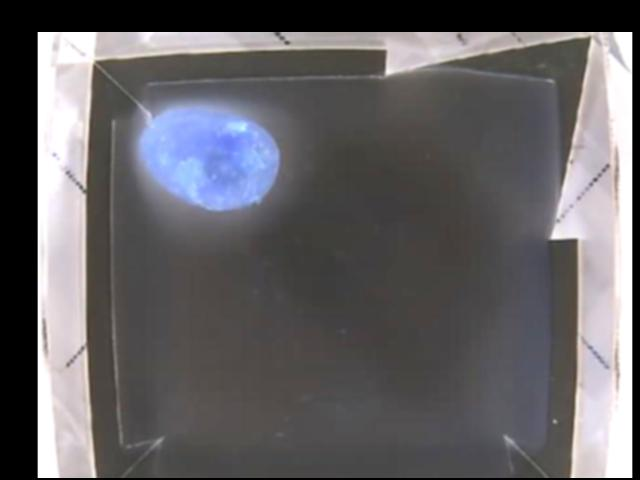Potato: (138, 108, 280, 208)
